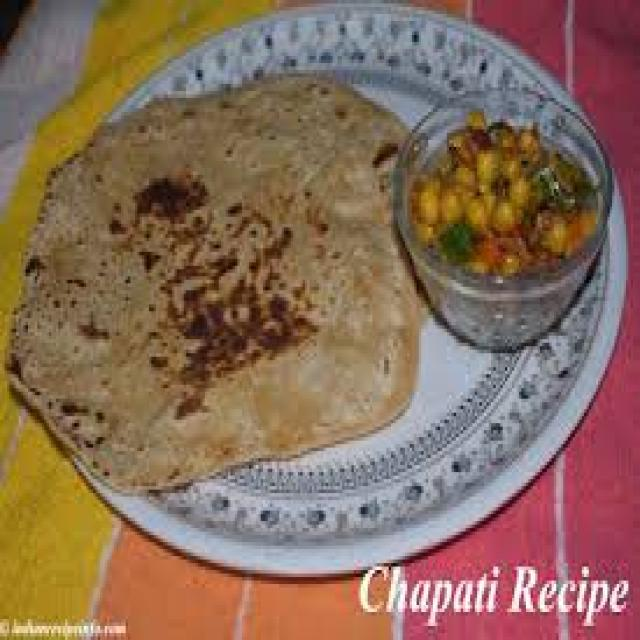chapathi: (30, 125, 397, 459)
